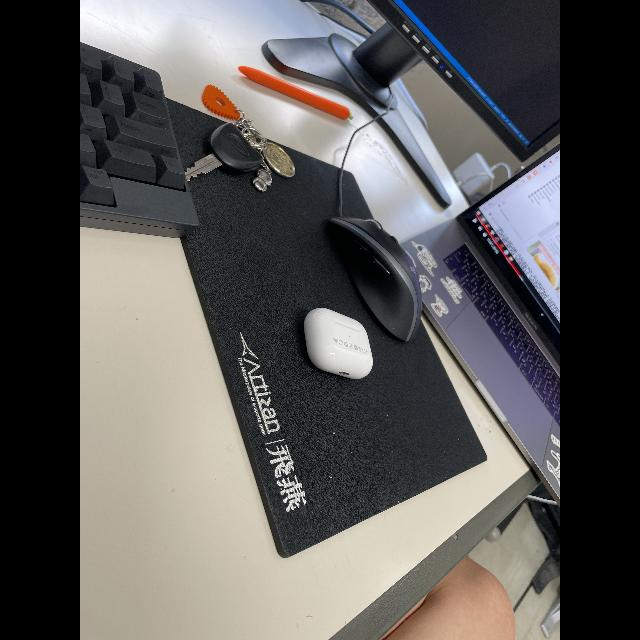airpod3: (305, 302, 377, 378)
